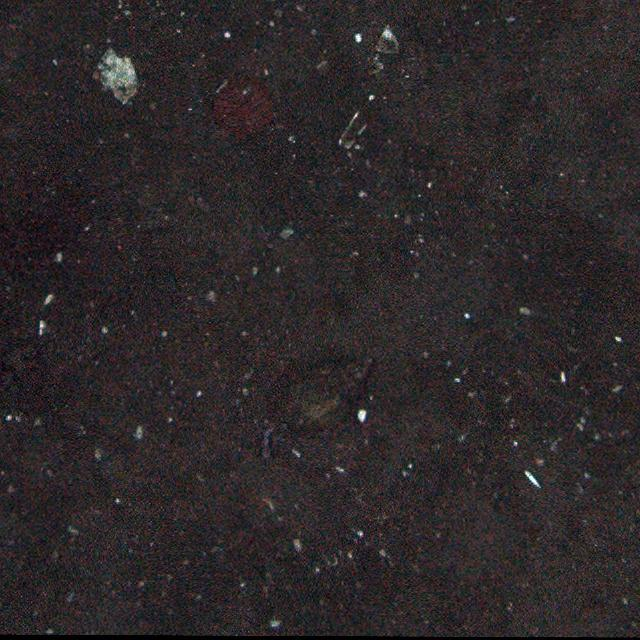whelk: (271, 354, 373, 434)
